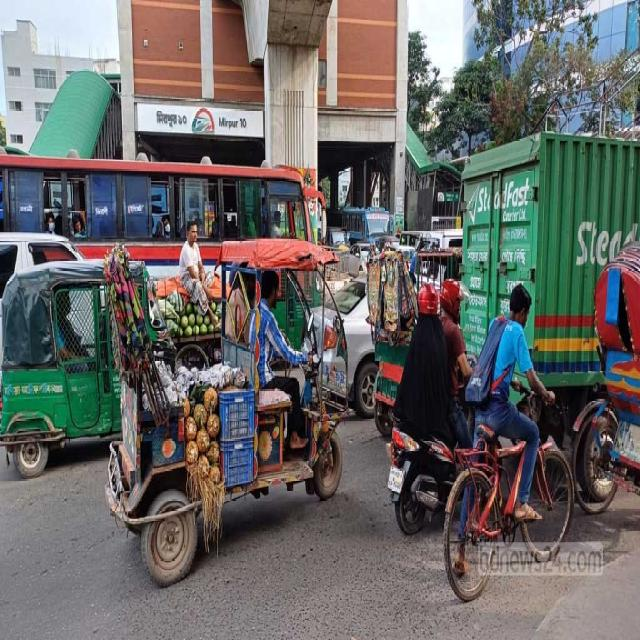Auto-Rickshaw: (104, 233, 347, 586)
Bicycle: (442, 383, 576, 616)
Bus: (1, 157, 309, 281)
Motorbike: (376, 431, 454, 545)
Rickshaw: (575, 257, 640, 510)
